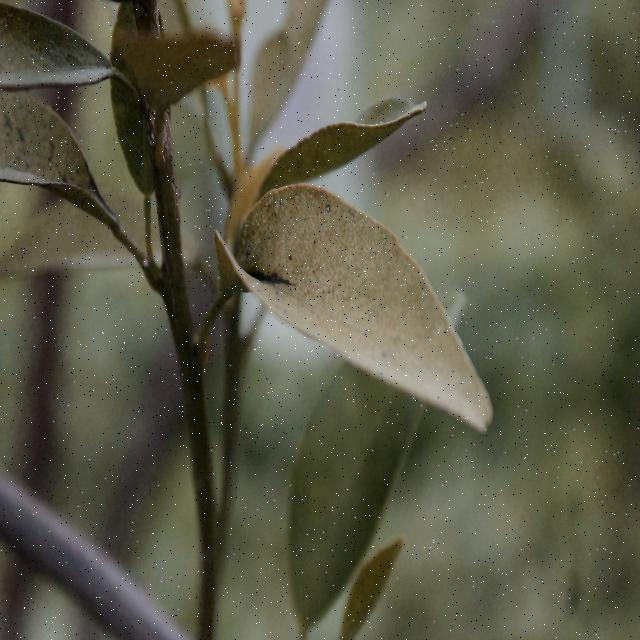blackspot: (216, 162, 451, 378), (2, 98, 105, 213)
